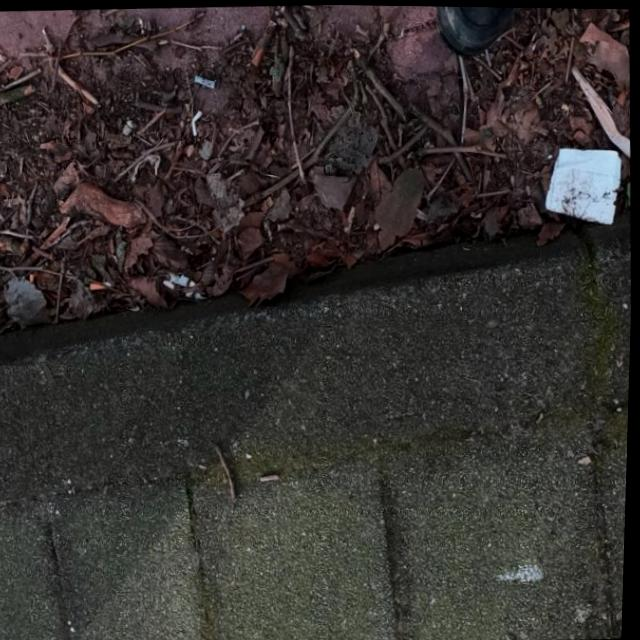Paper: (540, 139, 627, 229)
